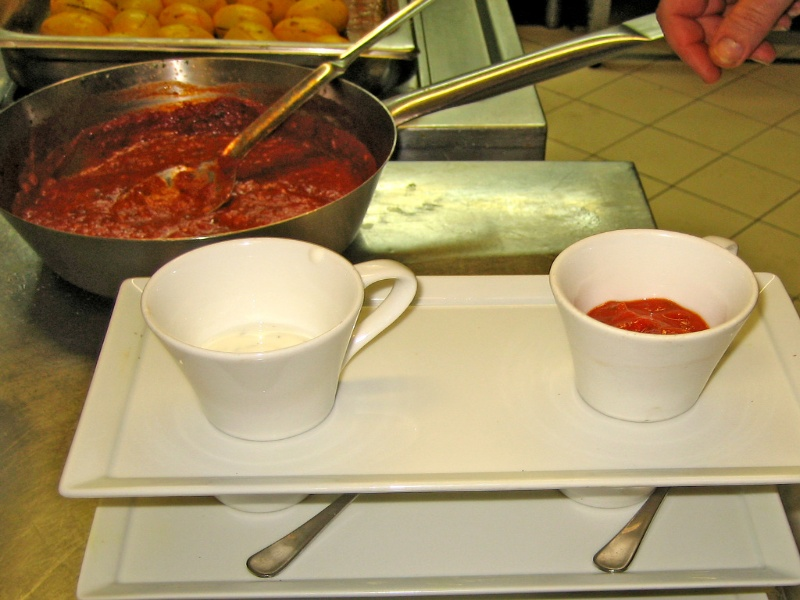cup: (130, 233, 428, 443), (544, 225, 768, 424)
